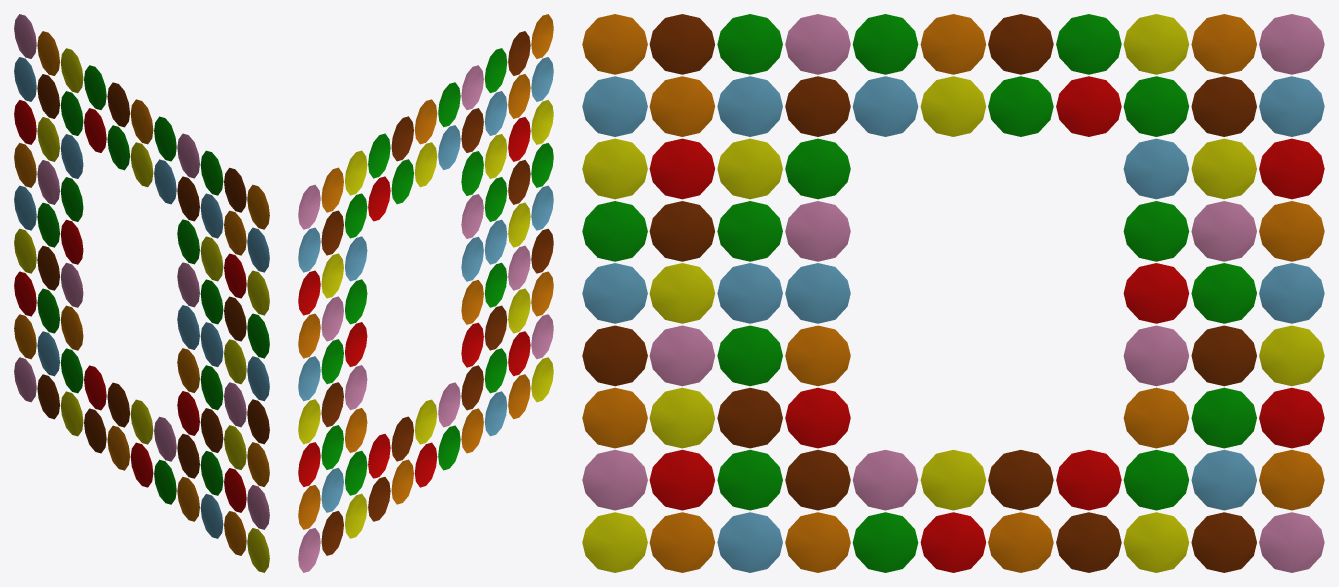
File: wall_marble_02.FBX
3 renders of one model, left to right at view 1: azimuth 30°, elevation 25°; view 2: azimuth 150°, elevation 25°; view 3: azimuth 270°, elevation 25°, orthographic. The views are drawn at different scales.
Parts seen in each view (by area): view 1: オブジェクト390; view 2: オブジェクト390; view 3: オブジェクト390.
Part boxes in pixels (<box>): オブジェクト390: <box>14,14,269,572</box>; オブジェクト390: <box>298,14,553,572</box>; オブジェクト390: <box>582,14,1324,572</box>.
Size of the model in its own units: 0.8448 by 70.22 by 84.52.
